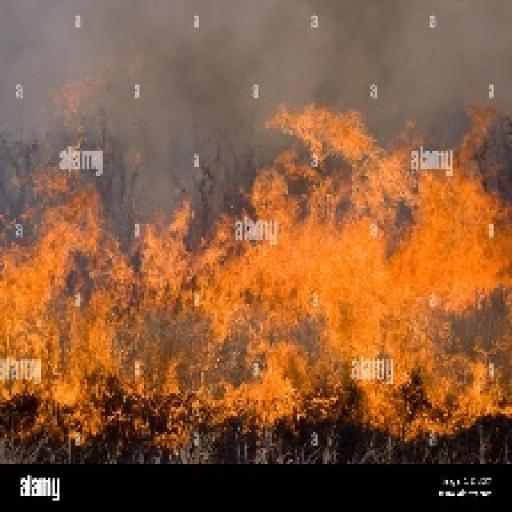fire and smoke: (0, 110, 510, 459), (0, 110, 510, 437)
